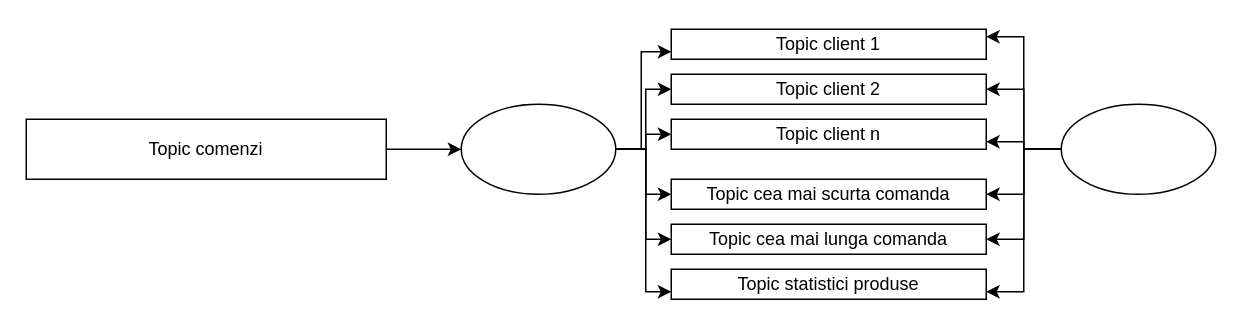
The diagram is 1242 pixels wide and 330 high, and some of its shapes have lost their labels. The shapes that lost their labels are listed below. From the top down, each one's centre as x and y in pixels, then its label:
At point 538,148: "Consumator comenzi".
At point 1138,148: "Consumator (API)".
